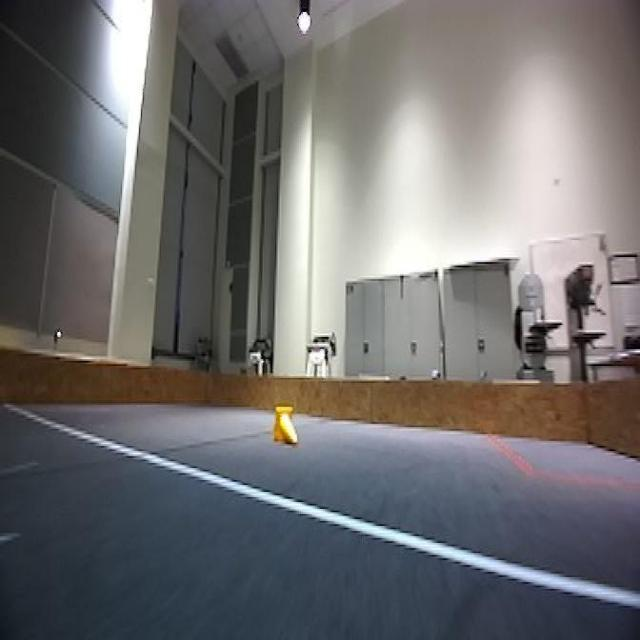frc_cone: (271, 407, 296, 446)
